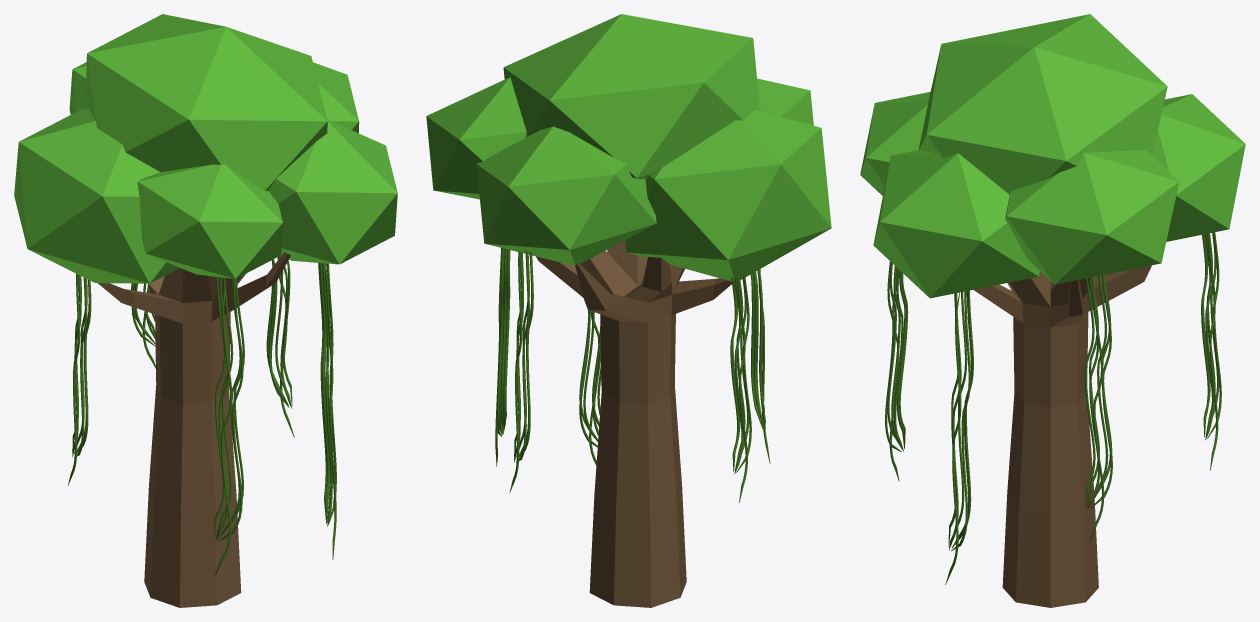
Rendered from SM_VineTrap.fbx.
3 renders of one model, left to right at view 1: azimuth 30°, elevation 25°; view 2: azimuth 150°, elevation 25°; view 3: azimuth 270°, elevation 25°, orthographic.
Visible parts, largest first — view 1: BézierCurve.005; view 2: BézierCurve.005; view 3: BézierCurve.005.
Part boxes in pixels (x1=…): BézierCurve.005: x1=14, y1=14, x2=397, y2=607; BézierCurve.005: x1=426, y1=14, x2=831, y2=607; BézierCurve.005: x1=860, y1=14, x2=1245, y2=607.
Size of the model in its own units: 10.59 by 9.9 by 15.65.
